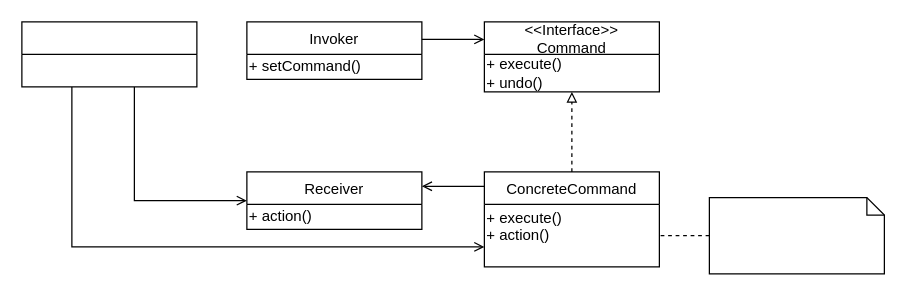
Some shapes in this 906 by 296 pixel diagram are drawn without their labels. The centre of each missing label's shape, as x and y in pixels:
Client: [109,54]
public void execute(){ receiver.action(); }: [796,235]
